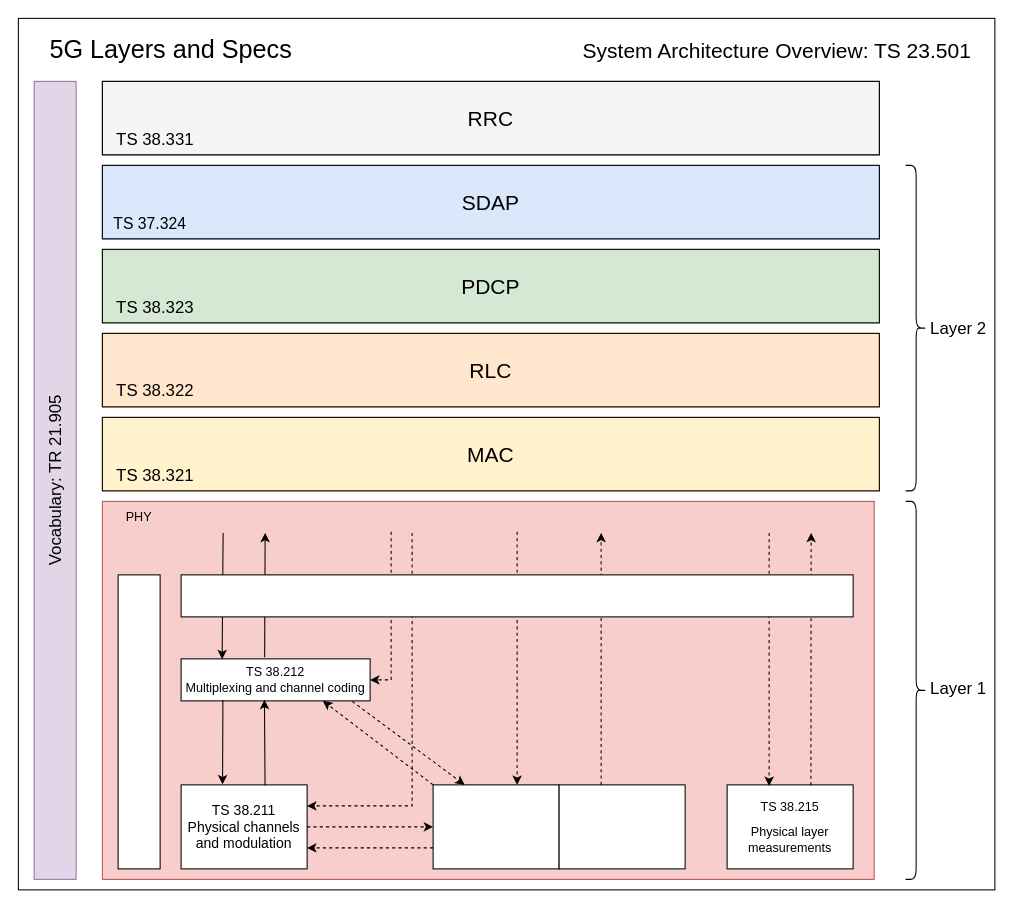
Some shapes in this 1018 by 908 pixel diagram are drawn without their labels. The centre of each missing label's shape, as x and y in pixels:
TS 38.2 0 2 Physical layer s ervices provided by the physical layer: (x=516, y=595)
TS 38.2 01 Physical layer; General description: (x=138, y=721)
TS 38.213 Physical layer procedures for control: (x=495, y=826)
TS 38.214 Physical layer procedures for data: (x=621, y=826)
